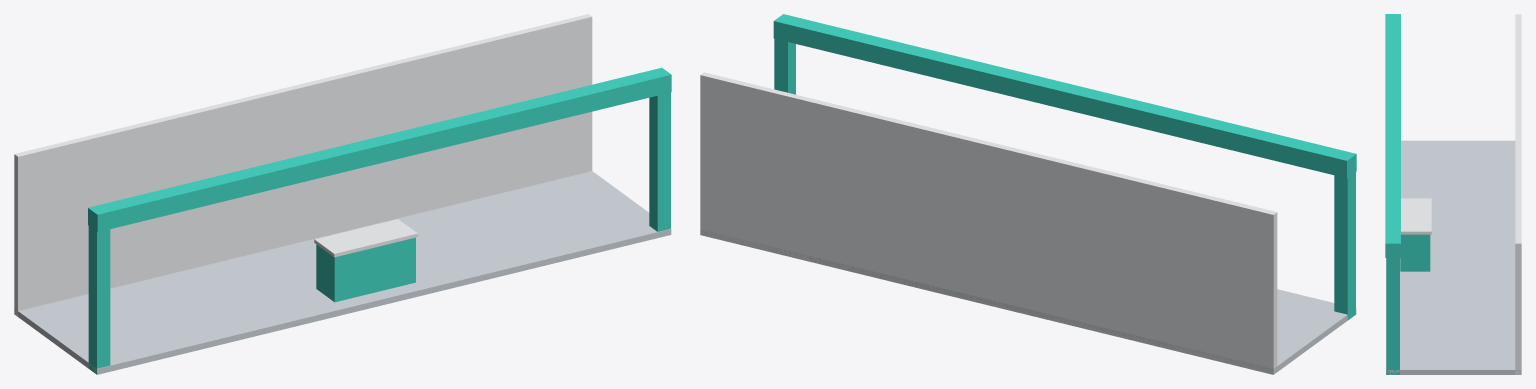
3 renders of one model, left to right at view 1: azimuth 30°, elevation 25°; view 2: azimuth 150°, elevation 25°; view 3: azimuth 270°, elevation 25°, orthographic. The views are drawn at different scales.
Visible parts, largest first — view 1: Exhibition Booth Concept; view 2: Exhibition Booth Concept; view 3: Exhibition Booth Concept.
Boxes of the visible parts, x1,y1,x2,y2 form: Exhibition Booth Concept: (14, 14, 671, 374); Exhibition Booth Concept: (700, 14, 1356, 374); Exhibition Booth Concept: (1385, 14, 1521, 374).
Size of the model in its own units: 12 by 3.2 by 3.01.
